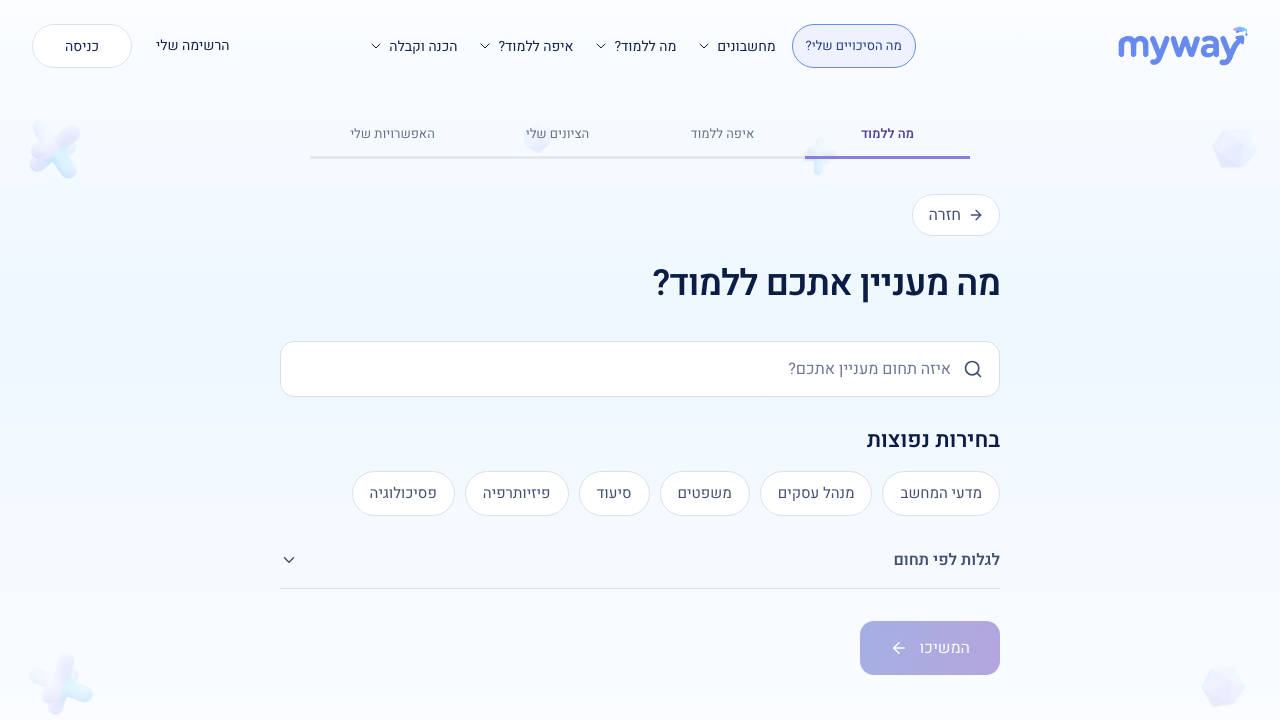
Test case: UX P1 subject selection › finds every engineering subject and the hub when searching הנדסה
In the field named "חיפוש תחום לימודים": (624, 368) [297, 342, 951, 396], type "הנדסה"
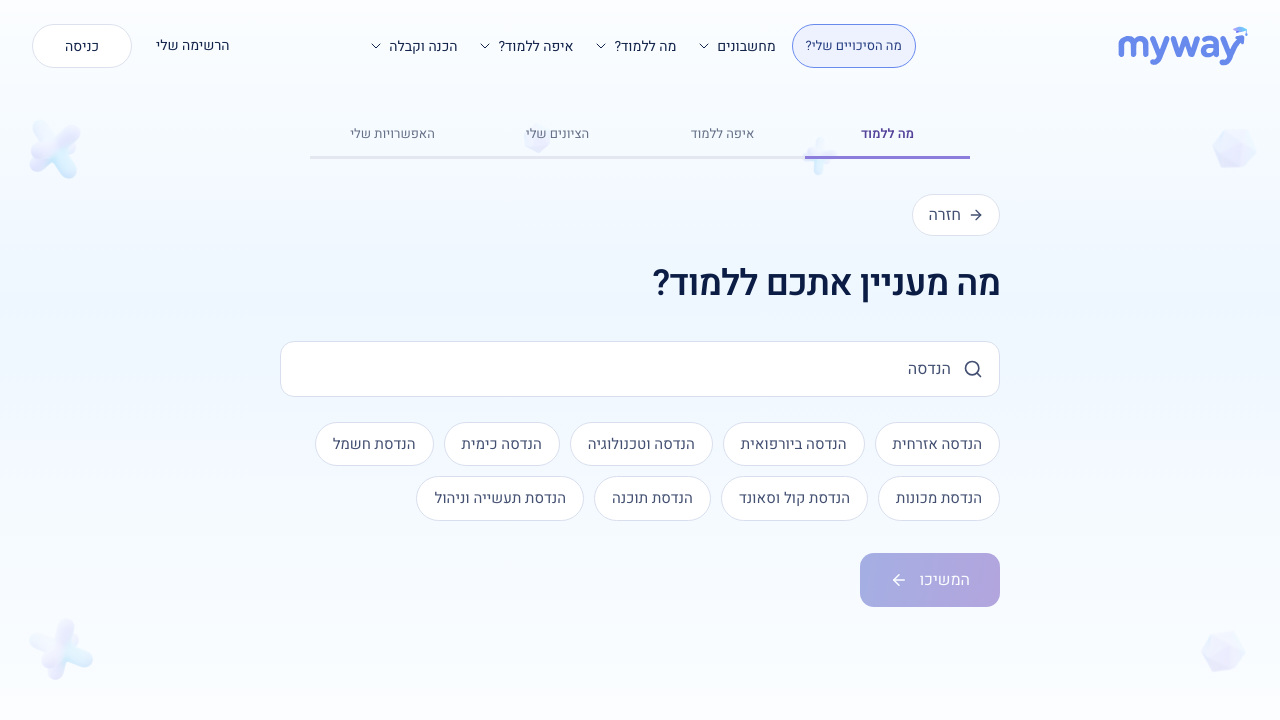
Now the button "הנדסה אזרחית" is shown, box [874, 422, 1000, 466]
Now the button "הנדסה ביורפואית" is shown, box [723, 422, 864, 466]
Now the button "הנדסה וטכנולוגיה" is shown, box [570, 422, 713, 466]
